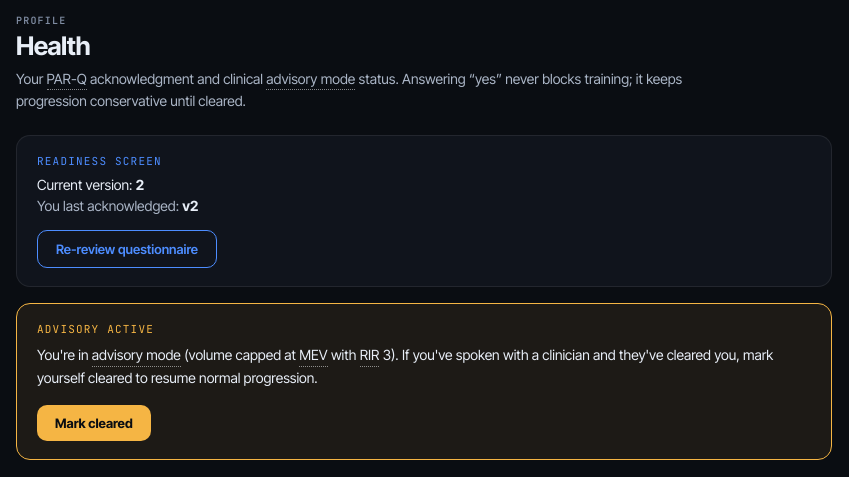
Test: <SettingsHealthPage> › Mark cleared POSTs and reloads status
Click the button "Mark cleared" at [94, 423], box [37,405,151,441]
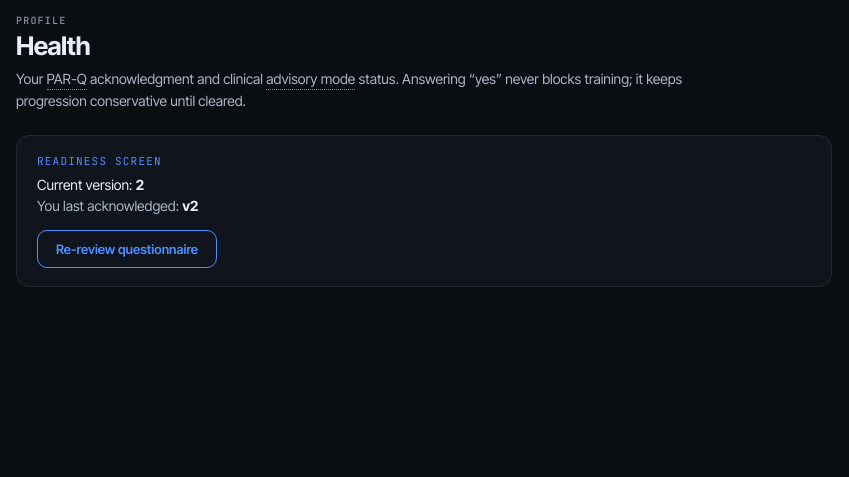
Expected: the text "ADVISORY ACTIVE" is gone
